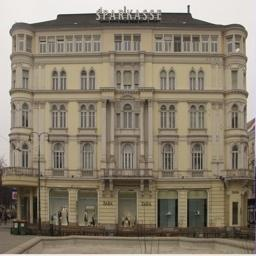building: (3, 5, 250, 240)
